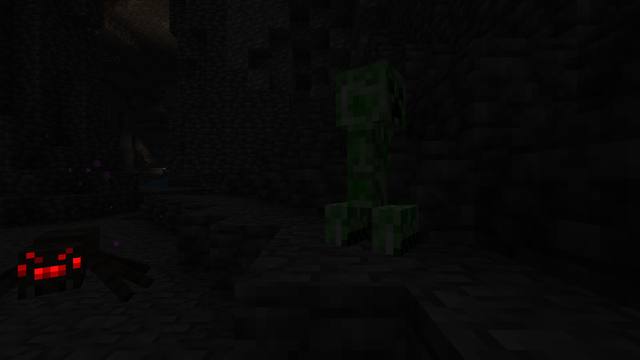araignees: (5, 224, 147, 328)
creepers: (338, 53, 413, 251)
